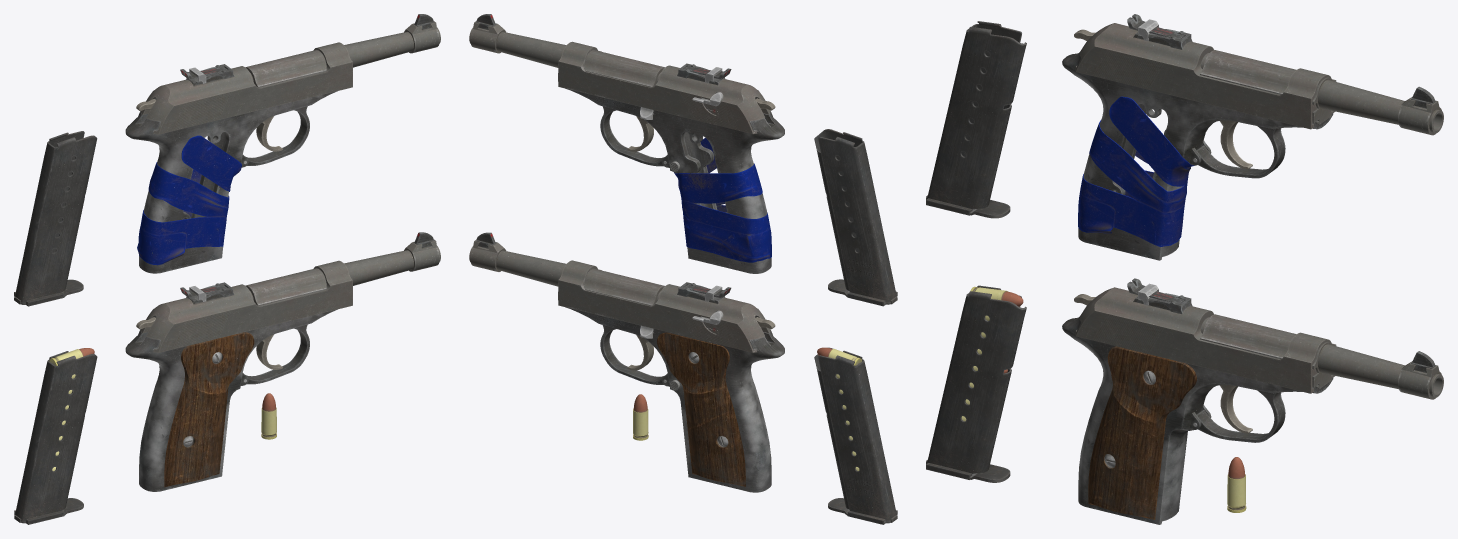
Rendered from service_pistol.glb.
The picture shows the model from 3 angles, left to right: view 1: azimuth 30°, elevation 25°; view 2: azimuth 150°, elevation 25°; view 3: azimuth 330°, elevation 25°; orthographic projection. The views are drawn at different scales.
Visible parts, largest first — view 1: service_pistol_pistol_b, service_pistol_pistol_a, service_pistol_magazine_loaded, service_pistol_magazine_empty, service_pistol_slide_a, service_pistol_slide_b, service_pistol_bullet; view 2: service_pistol_pistol_b, service_pistol_pistol_a, service_pistol_magazine_loaded, service_pistol_magazine_empty, service_pistol_slide_a, service_pistol_slide_b, service_pistol_bullet; view 3: service_pistol_pistol_a, service_pistol_pistol_b, service_pistol_magazine_loaded, service_pistol_magazine_empty, service_pistol_slide_b, service_pistol_slide_a, service_pistol_bullet, service_pistol_trigger_b, service_pistol_trigger_a.
Boxes of the visible parts, x1,y1,x2,y2 form: service_pistol_pistol_b: (125,14,440,273); service_pistol_pistol_a: (125,232,440,491); service_pistol_magazine_loaded: (14,348,97,524); service_pistol_magazine_empty: (14,131,97,306); service_pistol_slide_a: (141,260,352,352); service_pistol_slide_b: (141,42,352,134); service_pistol_bullet: (261,393,276,439); service_pistol_pistol_b: (469,14,784,273); service_pistol_pistol_a: (469,232,784,492); service_pistol_magazine_loaded: (814,347,897,524); service_pistol_magazine_empty: (814,129,897,306); service_pistol_slide_a: (558,260,772,352); service_pistol_slide_b: (558,41,772,133); service_pistol_bullet: (633,394,648,440); service_pistol_pistol_a: (1062,314,1443,524); service_pistol_pistol_b: (1062,50,1443,260); service_pistol_magazine_loaded: (926,285,1026,482); service_pistol_magazine_empty: (926,21,1026,218); service_pistol_slide_b: (1075,14,1336,129); service_pistol_slide_a: (1075,278,1336,393); service_pistol_bullet: (1227,457,1246,512); service_pistol_trigger_b: (1220,120,1252,169); service_pistol_trigger_a: (1220,384,1252,433).
Size of the model in its own units: 0.3016 by 0.2807 by 0.0318.
Materials: 1 (1 with a texture image).
